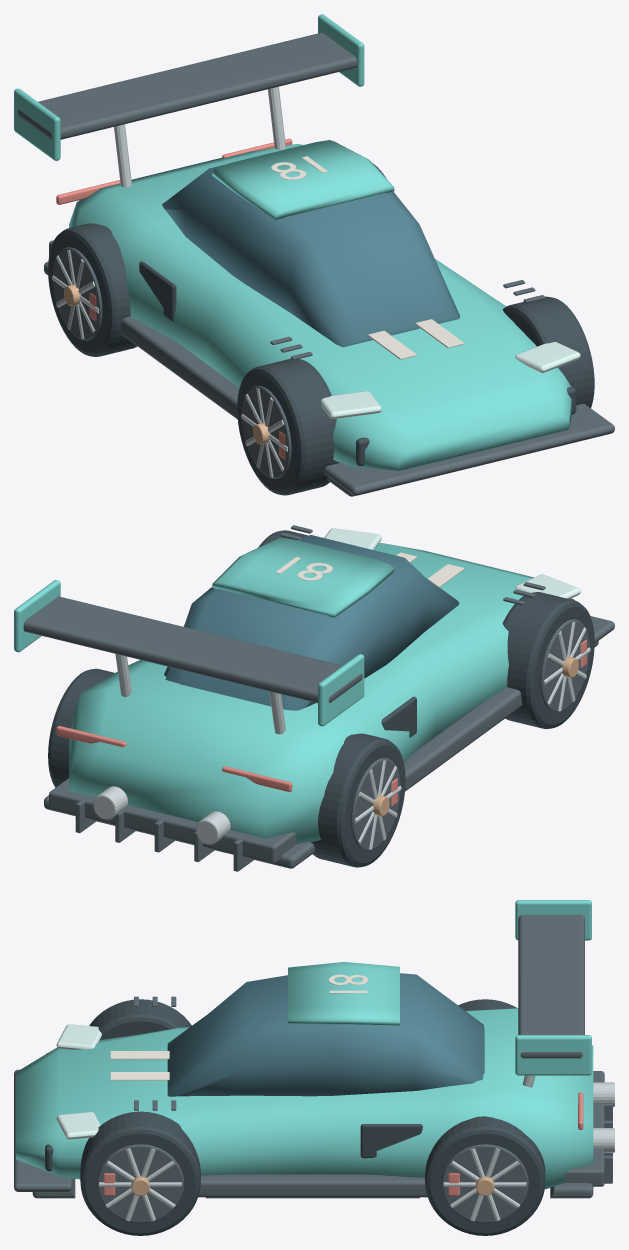
File: Pro_NeonViper.fbx
3 views of the same model, one above another, from view 1: azimuth 30°, elevation 25°; view 2: azimuth 150°, elevation 25°; view 3: azimuth 270°, elevation 25° (orthographic). The views are drawn at different scales.
Visible parts, largest first — view 1: Sculpted GT coachwork.002, Panoramic glazing.002, Carbon rear wing.002, Painted roof.002, Wheel_FL.002, Wheel_RL.002, Front splitter.002, Wheel_FR.002, Side skirt.004, Brake rotor.008, Brake rotor.009, Wing endplate.004 (+6 smaller); view 2: Sculpted GT coachwork.002, Panoramic glazing.002, Carbon rear wing.002, Painted roof.002, Wheel_FL.002, Wheel_RL.002, Diffuser.002, Side skirt.004, Wheel_RR.002, Brake rotor.009, Brake rotor.008, Wing endplate.004 (+12 smaller); view 3: Sculpted GT coachwork.002, Panoramic glazing.002, Carbon rear wing.002, Wheel_FR.002, Painted roof.002, Wheel_RR.002, Side skirt.005, Brake rotor.010, Brake rotor.011, Wing endplate.005, Wheel_FL.002, Front splitter.002 (+11 smaller).
Part boxes in pixels (x1,y1,x2,y2): Sculpted GT coachwork.002: [69, 143, 571, 470]; Panoramic glazing.002: [162, 164, 460, 347]; Carbon rear wing.002: [18, 32, 356, 139]; Painted roof.002: [212, 140, 394, 219]; Wheel_FL.002: [237, 358, 339, 495]; Wheel_RL.002: [48, 223, 137, 356]; Front splitter.002: [324, 403, 614, 495]; Wheel_FR.002: [502, 296, 594, 407]; Side skirt.004: [120, 316, 239, 419]; Brake rotor.008: [53, 247, 102, 340]; Brake rotor.009: [242, 385, 291, 478]; Wing endplate.004: [14, 88, 60, 160]; Sculpted GT coachwork.002: [69, 543, 533, 844]; Panoramic glazing.002: [164, 535, 459, 710]; Carbon rear wing.002: [23, 596, 362, 702]; Painted roof.002: [212, 537, 394, 617]; Wheel_FL.002: [502, 592, 594, 729]; Wheel_RL.002: [311, 733, 405, 867]; Diffuser.002: [49, 778, 296, 863]; Side skirt.004: [404, 687, 522, 791]; Wheel_RR.002: [48, 668, 114, 787]; Brake rotor.009: [540, 619, 589, 712]; Brake rotor.008: [351, 758, 400, 850]; Wing endplate.004: [318, 654, 364, 726]; Sculpted GT coachwork.002: [16, 1008, 593, 1189]; Panoramic glazing.002: [167, 973, 484, 1096]; Carbon rear wing.002: [518, 914, 584, 1058]; Wheel_FR.002: [80, 1111, 200, 1235]; Painted roof.002: [288, 962, 399, 1025]; Wheel_RR.002: [425, 1116, 545, 1235]; Side skirt.005: [198, 1174, 427, 1197]; Brake rotor.010: [441, 1144, 528, 1223]; Brake rotor.011: [97, 1144, 184, 1223]; Wing endplate.005: [515, 1035, 591, 1075]; Wheel_FL.002: [89, 999, 191, 1039]; Front splitter.002: [14, 1069, 71, 1191].
Bounding box in the file's own units: 161 × 108 × 290.
